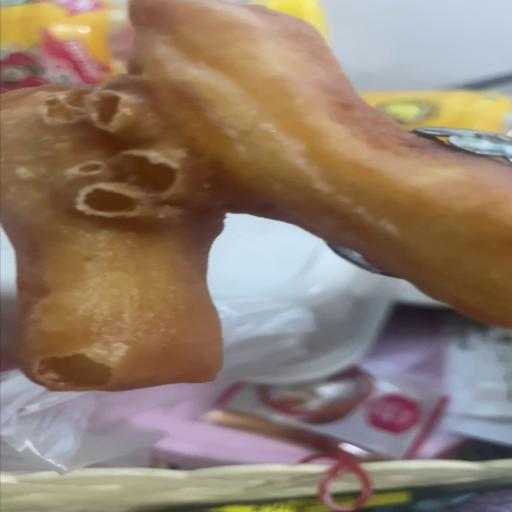street_burnt_defect: (0, 0, 512, 391)
